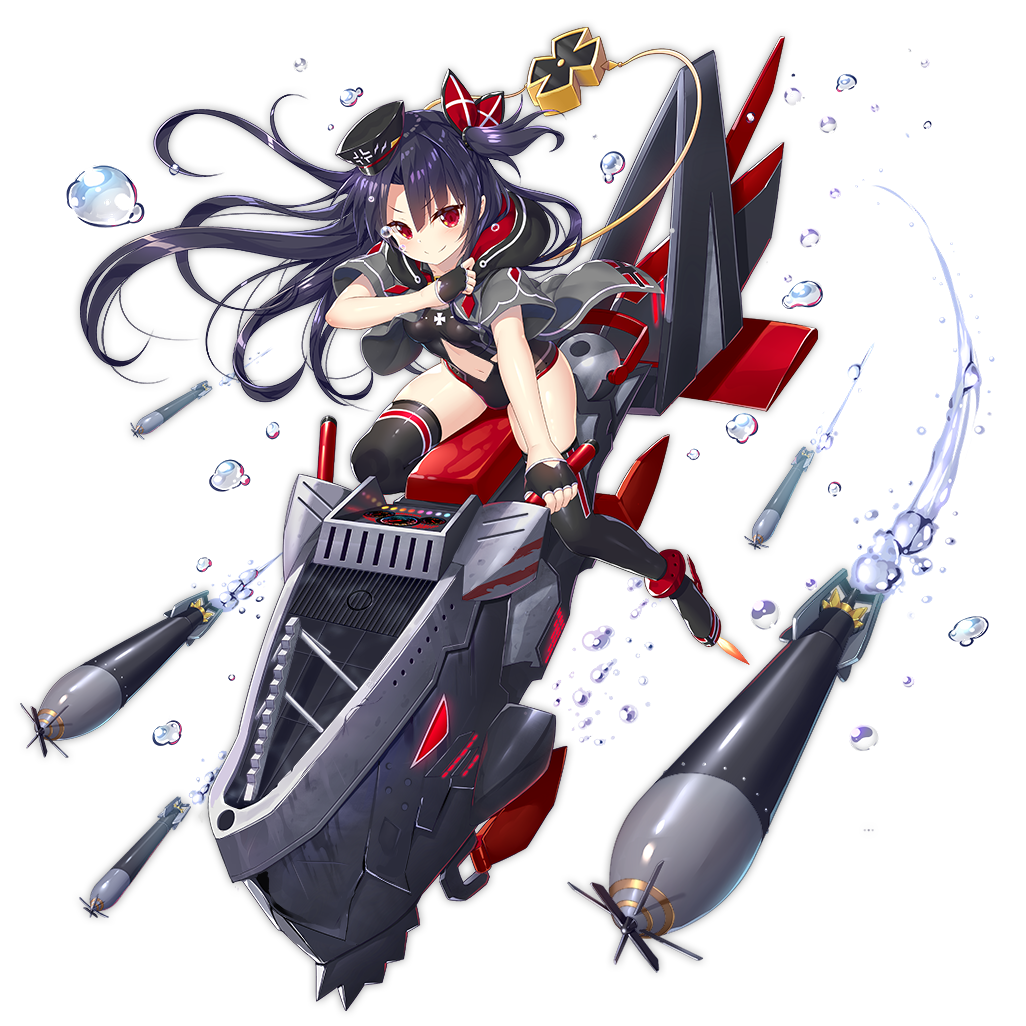person: (111, 68, 758, 715)
